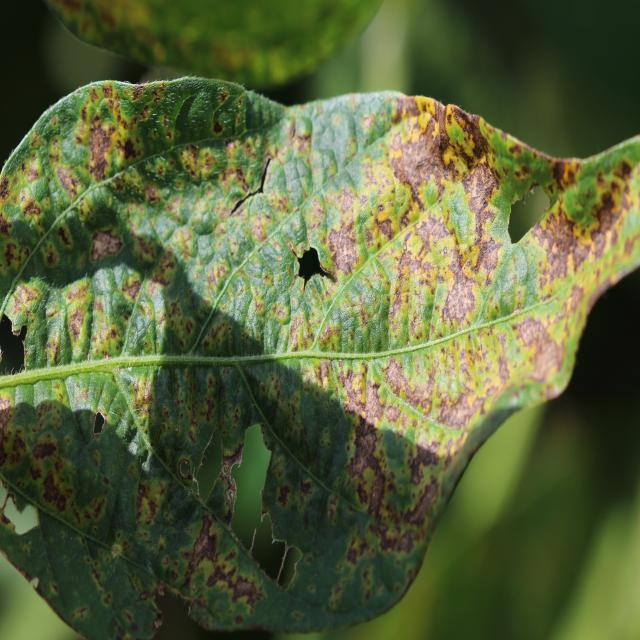Bacterial_Blight: (417, 397, 538, 523), (36, 522, 114, 629), (329, 539, 400, 618), (156, 135, 243, 189), (341, 422, 384, 516), (389, 127, 440, 203), (179, 512, 224, 595), (313, 102, 356, 171), (124, 202, 169, 266), (164, 276, 200, 348), (443, 265, 482, 327), (3, 281, 45, 338), (460, 167, 499, 228), (383, 357, 424, 412), (109, 167, 158, 210), (335, 366, 371, 419), (134, 476, 168, 532), (330, 223, 368, 270), (401, 480, 439, 526), (88, 117, 114, 180), (441, 389, 479, 429), (591, 187, 622, 235), (387, 93, 428, 129), (40, 470, 69, 512), (89, 228, 123, 262), (278, 546, 304, 589), (125, 422, 151, 464), (517, 315, 547, 350), (543, 365, 573, 400), (55, 164, 81, 202), (220, 448, 244, 486), (131, 374, 153, 412), (551, 158, 576, 189), (0, 400, 13, 451), (67, 305, 85, 341), (31, 440, 58, 460), (406, 231, 424, 255), (3, 241, 18, 269), (120, 138, 137, 161), (92, 411, 106, 437), (22, 199, 41, 218), (447, 122, 464, 143), (276, 484, 290, 508), (298, 478, 313, 498), (247, 526, 257, 556), (57, 226, 71, 247), (178, 459, 192, 480), (131, 82, 147, 100), (0, 176, 10, 202), (540, 290, 555, 304), (288, 240, 299, 258), (46, 249, 57, 266), (260, 506, 270, 524), (542, 192, 551, 212), (152, 614, 163, 630), (213, 121, 223, 134), (219, 91, 228, 104), (30, 576, 39, 589), (113, 544, 121, 554), (377, 203, 384, 213), (110, 329, 116, 339), (529, 185, 535, 195), (129, 465, 134, 474), (260, 488, 264, 496)
Soybean: (0, 75, 640, 640)
